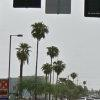Tree: (25, 21, 82, 92)
